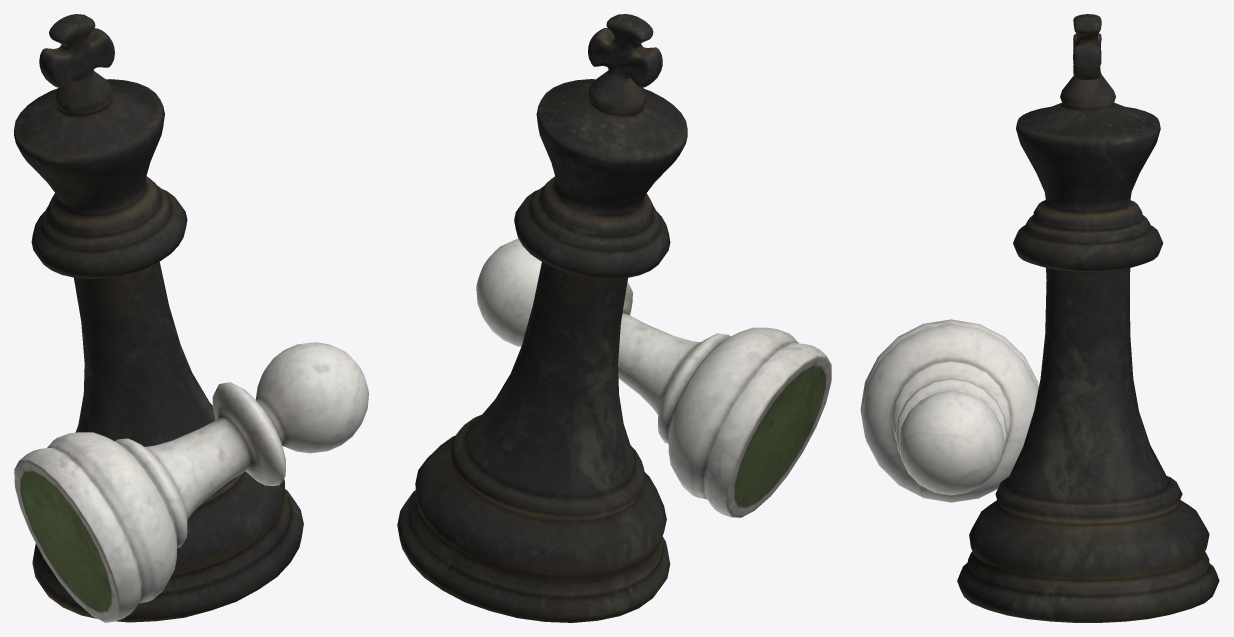
Rendered from king_pown.gltf.
The picture shows the model from 3 angles, left to right: view 1: azimuth 30°, elevation 25°; view 2: azimuth 150°, elevation 25°; view 3: azimuth 270°, elevation 25°; orthographic projection. The views are drawn at different scales.
Visible parts, largest first — view 1: piece_king_black, piece_pawn_white_04; view 2: piece_king_black, piece_pawn_white_04; view 3: piece_king_black, piece_pawn_white_04.
Boxes of the visible parts, x1,y1,x2,y2 form: piece_king_black: (14, 14, 303, 622); piece_pawn_white_04: (14, 342, 368, 622); piece_king_black: (397, 14, 687, 622); piece_pawn_white_04: (476, 239, 831, 517); piece_king_black: (957, 14, 1219, 622); piece_pawn_white_04: (860, 319, 1038, 502).
Size of the model in its own units: 0.0558 by 0.0969 by 0.0571.
Materials: 2 (2 with a texture image).
